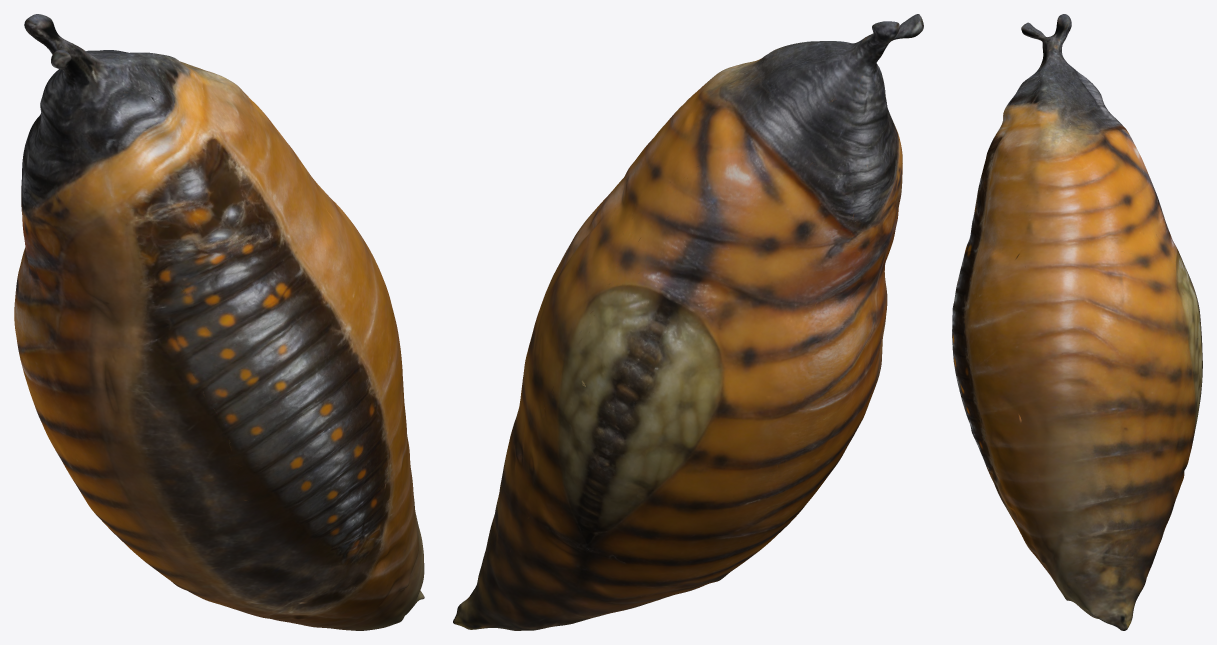
The model's file is pupa.glb.
3 views of the same model, side by side, from view 1: azimuth 30°, elevation 25°; view 2: azimuth 150°, elevation 25°; view 3: azimuth 270°, elevation 25° (orthographic). The views are drawn at different scales.
Bounding box in the file's own units: 1.26 × 2 × 0.9467.
1 material, 1 textured.
